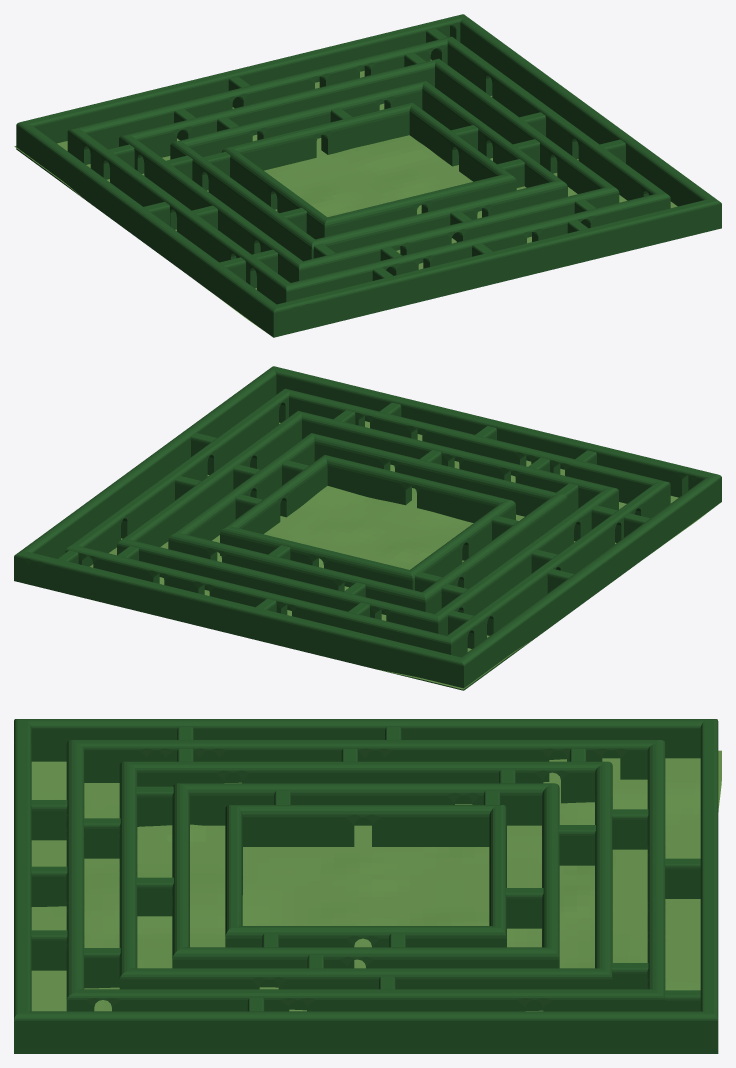
Rendered from Maze 11.fbx.
3 views of the same model, one above another, from view 1: azimuth 30°, elevation 25°; view 2: azimuth 150°, elevation 25°; view 3: azimuth 270°, elevation 25° (orthographic). The views are drawn at different scales.
Visible parts, largest first — view 1: Walls 1.011, Walls 2.011, Walls 3.011, Walls 4.012, Walls 5.011, Floor.012; view 2: Walls 1.011, Walls 2.011, Walls 3.011, Walls 4.012, Walls 5.011, Floor.012; view 3: Floor.012, Walls 1.011, Walls 2.011, Walls 3.011, Walls 4.012, Walls 5.011, Bush Blocker.317, Bush Blocker.318, Bush Blocker.311, Bush Blocker.313, Bush Blocker.310, Bush Blocker.309 (+7 smaller).
Boxes of the visible parts, x1=… form: Walls 1.011: x1=16, y1=14, x2=721, y2=337; Walls 2.011: x1=67, y1=36, x2=670, y2=304; Walls 3.011: x1=119, y1=58, x2=619, y2=282; Walls 4.012: x1=170, y1=80, x2=567, y2=261; Walls 5.011: x1=221, y1=102, x2=516, y2=239; Floor.012: x1=14, y1=59, x2=677, y2=331; Walls 1.011: x1=14, y1=366, x2=721, y2=690; Walls 2.011: x1=65, y1=388, x2=670, y2=657; Walls 3.011: x1=117, y1=411, x2=618, y2=635; Walls 4.012: x1=168, y1=433, x2=567, y2=614; Walls 5.011: x1=220, y1=455, x2=515, y2=590; Floor.012: x1=90, y1=421, x2=714, y2=689; Floor.012: x1=31, y1=750, x2=721, y2=1011; Walls 1.011: x1=14, y1=719, x2=718, y2=1053; Walls 2.011: x1=66, y1=740, x2=665, y2=1011; Walls 3.011: x1=119, y1=761, x2=612, y2=1010; Walls 4.012: x1=172, y1=783, x2=559, y2=987; Walls 5.011: x1=225, y1=805, x2=506, y2=968; Bush Blocker.317: x1=558, y1=825, x2=595, y2=865; Bush Blocker.318: x1=611, y1=809, x2=648, y2=849; Bush Blocker.311: x1=31, y1=930, x2=67, y2=970; Bush Blocker.313: x1=84, y1=818, x2=120, y2=858; Bush Blocker.310: x1=31, y1=866, x2=67, y2=906; Bush Blocker.309: x1=31, y1=800, x2=67, y2=840.
Bounding box in the file's own units: 6009 × 368 × 5992.
